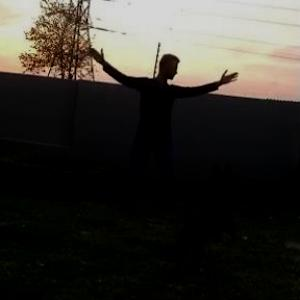takeoff: (81, 47, 227, 211)
